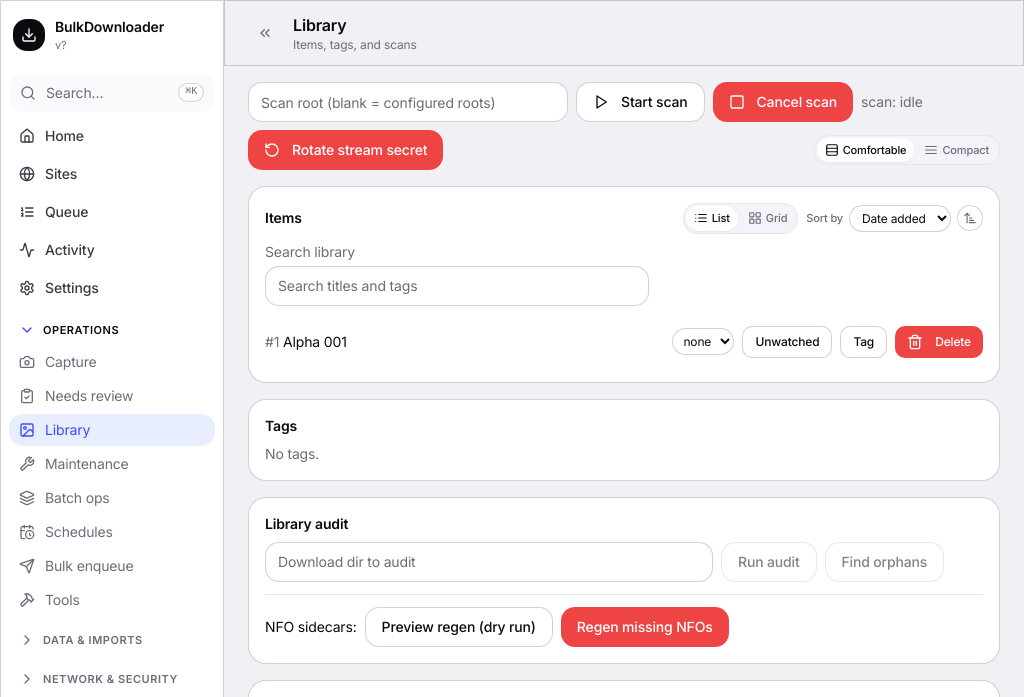
Test: sltm-fix Library: items beyond the first page › negative control: a single complete page shows no partial hint and searches nothing remote
Expected: the button "Alpha 001" is shown, [283,332,347,352]
Type "missing-title" into the search field labelled "Search library" at (457, 286), box [265,266,649,306]
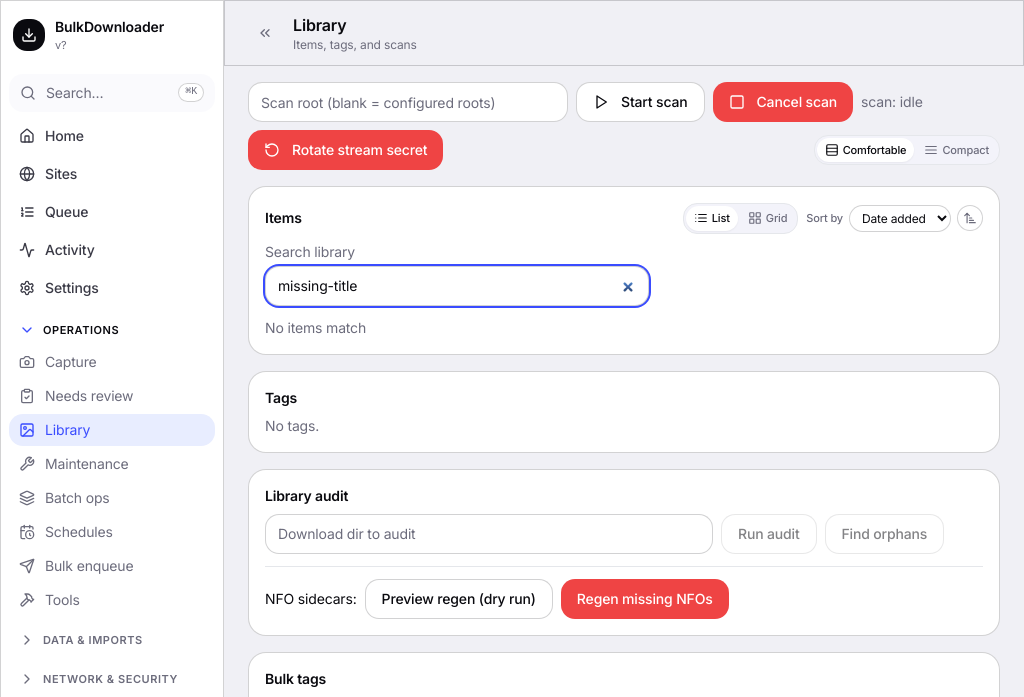
Now the text "No items match" is shown, box [265,318,366,336]
